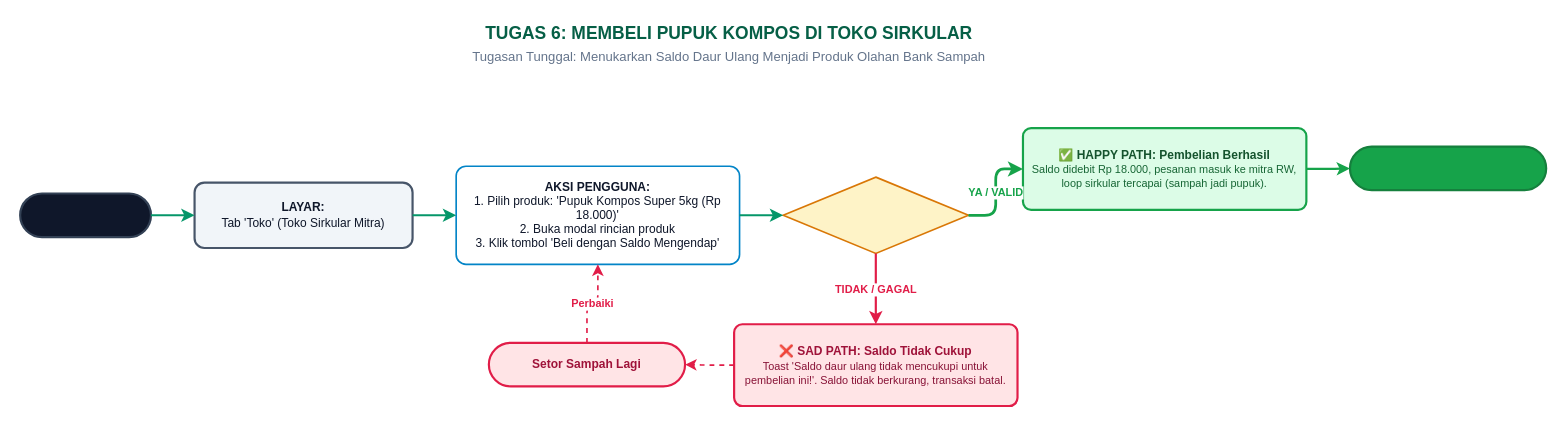
Some shapes in this 1565 by 425 pixel diagram are drawn without their labels. The centre of each missing label's shape, as x and y in pixels:
MULAI TUGAS: pixel 85 215
Pupuk Diterima Warga: pixel 1447 168
Saldo Mengendap >= Harga Produk (Rp 18.000)?: pixel 875 215
